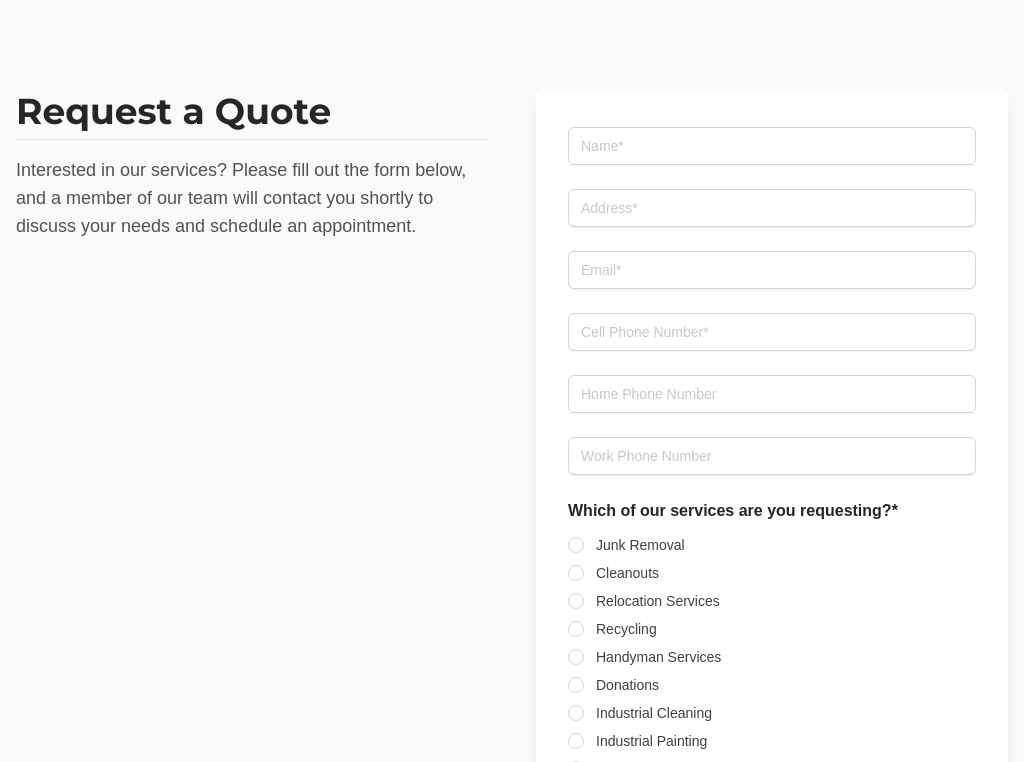
Test case: SchedulingContactSection Component › clears the form when "Clear" button is clicked
The image size is (1024, 762).
Type "Test Name" into the field with placeholder "Name*".
click(772, 146); type("Test Name")  # box [568, 127, 976, 165]
(page scrolled)
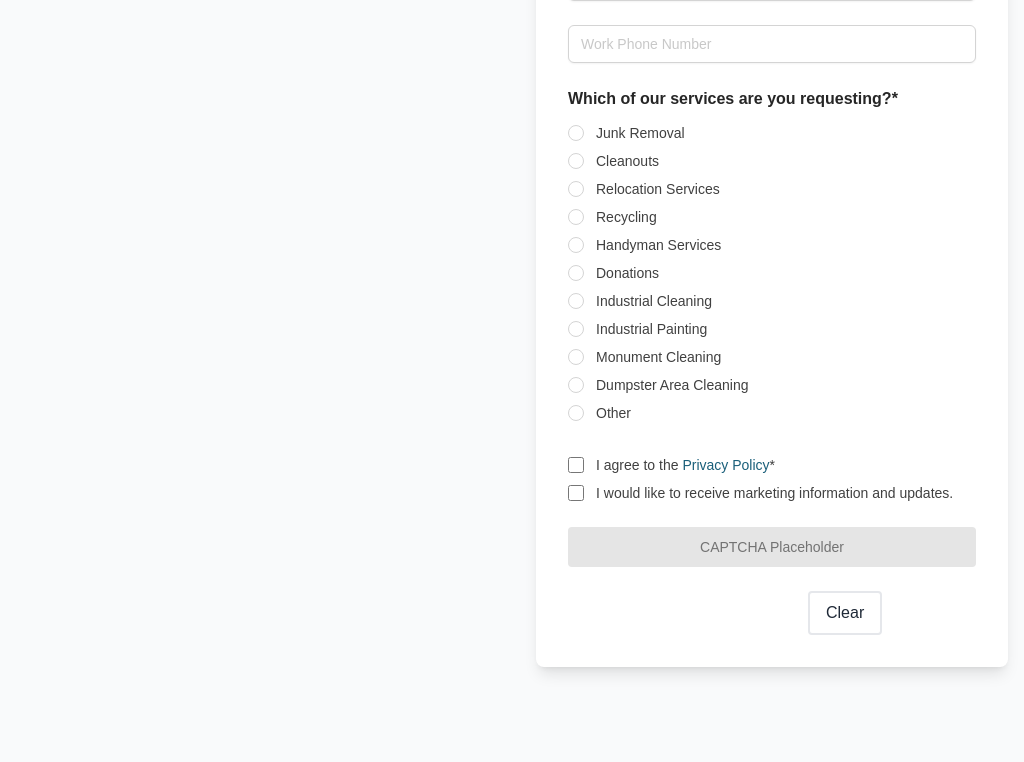
Click the checkbox labelled "Other".
click(614, 413)  # box [596, 405, 631, 421]
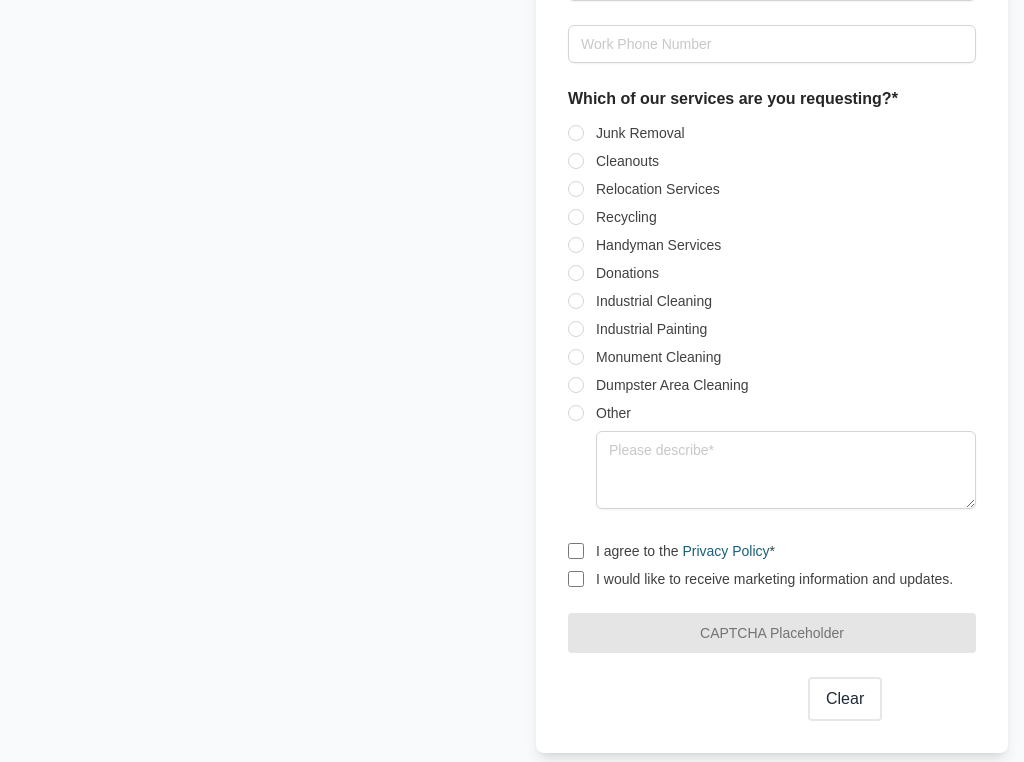
Click the checkbox labelled "I agree to the Privacy Policy *".
click(576, 551)  # box [568, 543, 584, 559]
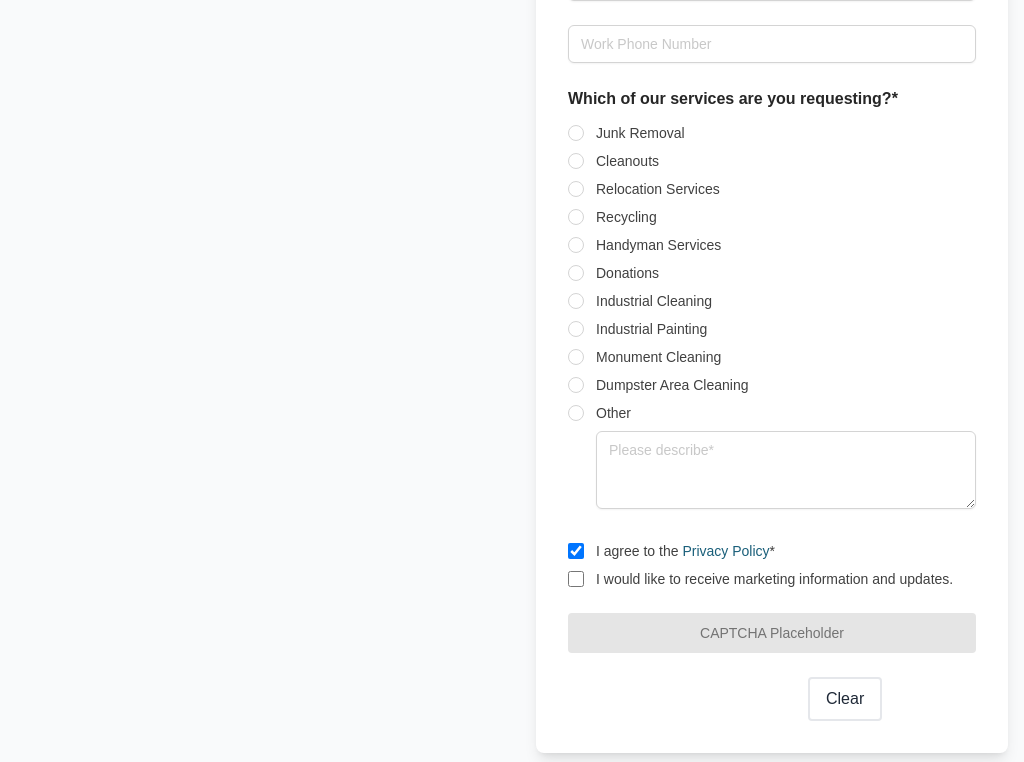
Type "Test Description" into the text box with placeholder "Please describe*".
click(786, 470); type("Test Description")  # box [596, 431, 976, 509]
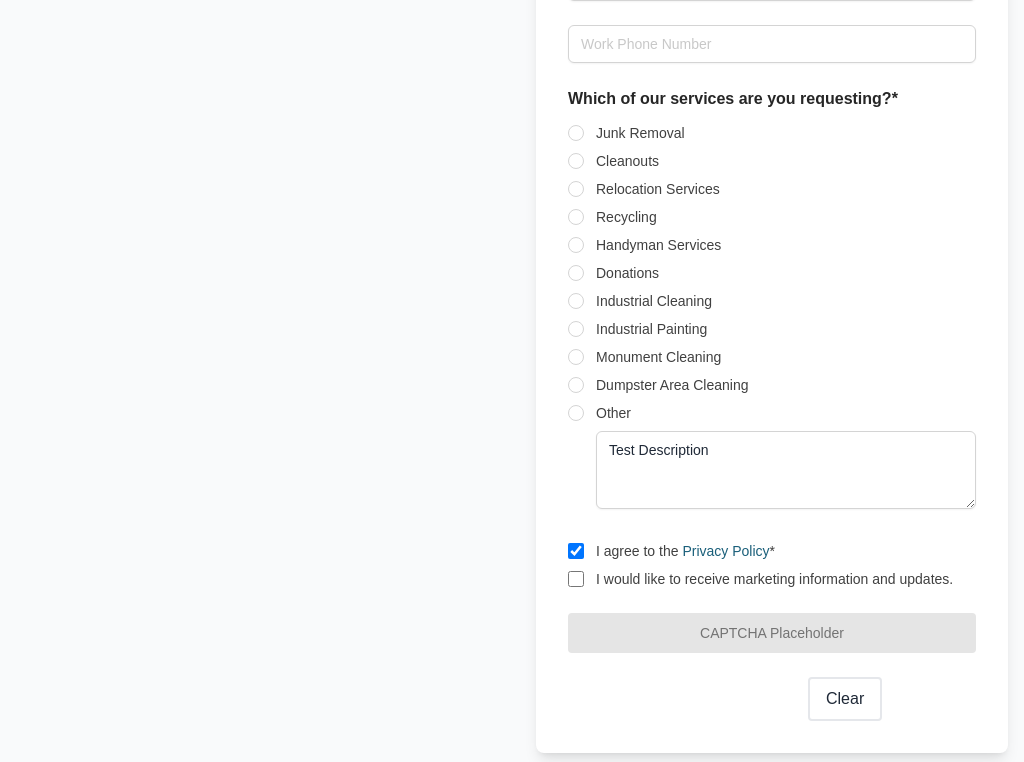
Click the button "Clear".
click(845, 699)  # box [808, 677, 882, 721]
(page scrolled)
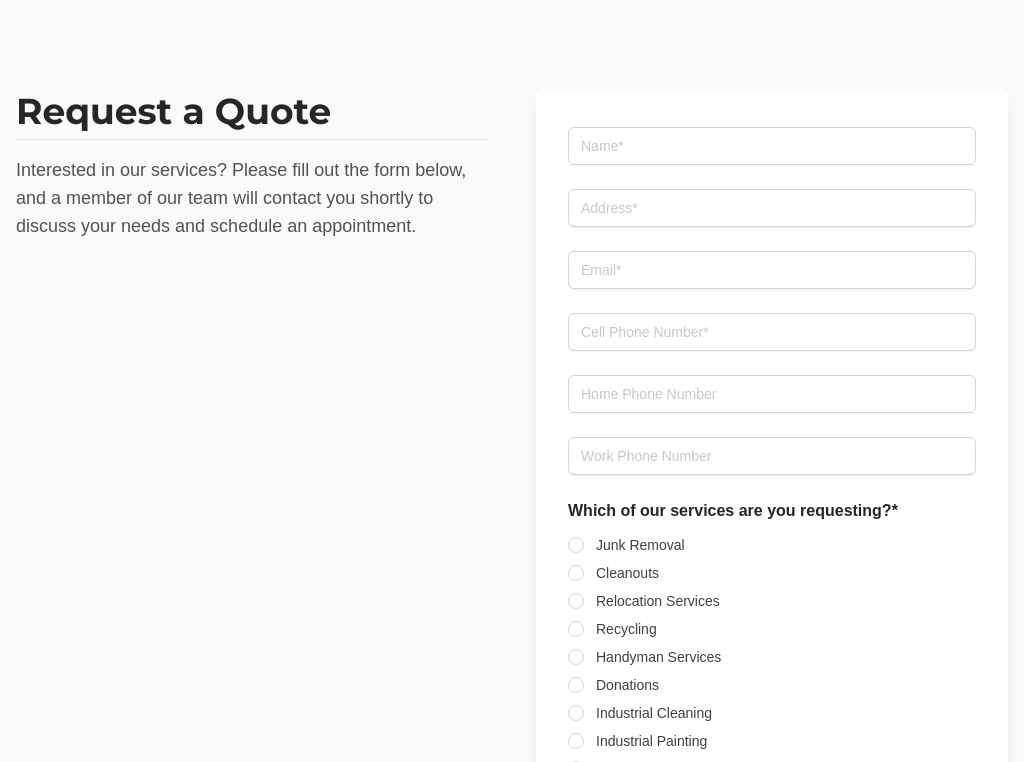
Now the field with placeholder "Name*" is empty, box [568, 127, 976, 165]
